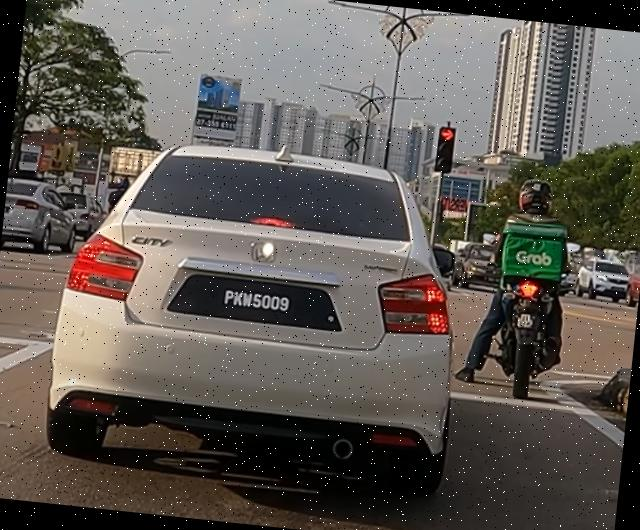License_Plate: (190, 274, 331, 329)
car: (41, 125, 477, 497)
